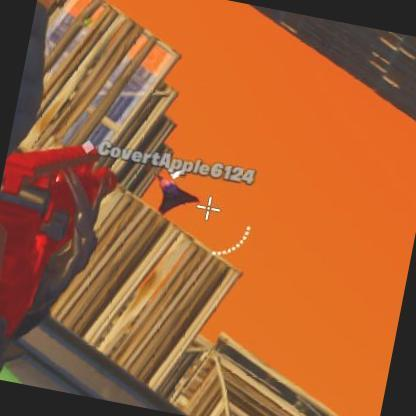person: (150, 176, 186, 209)
